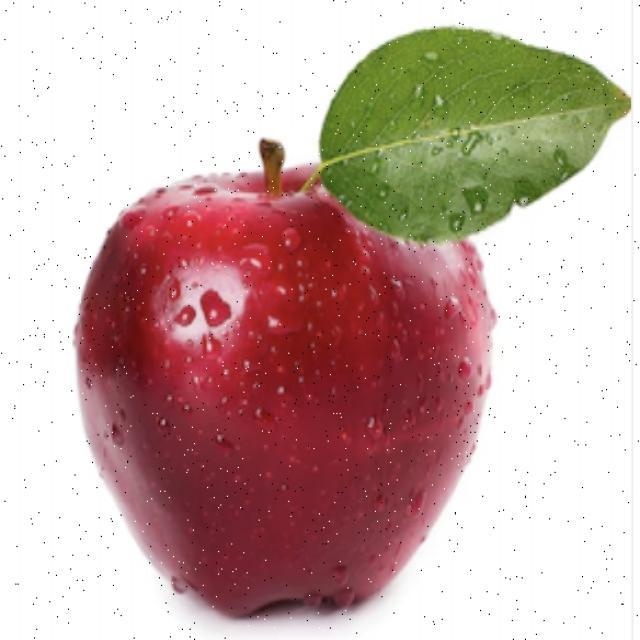Fresh Apple: (80, 170, 485, 598)
